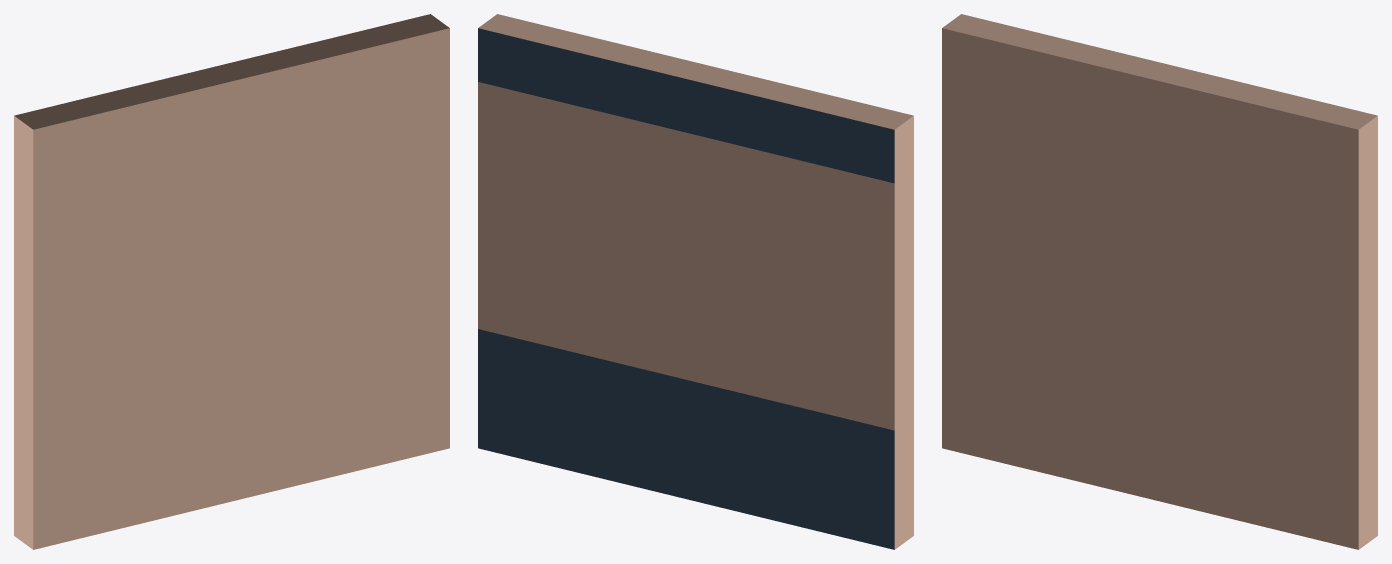
The model's file is Wall 1.fbx.
3 views of the same model, side by side, from view 1: azimuth 30°, elevation 25°; view 2: azimuth 150°, elevation 25°; view 3: azimuth 330°, elevation 25° (orthographic).
Parts seen in each view (by area): view 1: Wall 1; view 2: Wall 1; view 3: Wall 1.
Boxes of the visible parts, <box> form: Wall 1: <box>14,14,449,549</box>; Wall 1: <box>478,14,913,549</box>; Wall 1: <box>942,14,1377,549</box>.
Size of the model in its own units: 0.4121 by 4.94 by 5.13.
